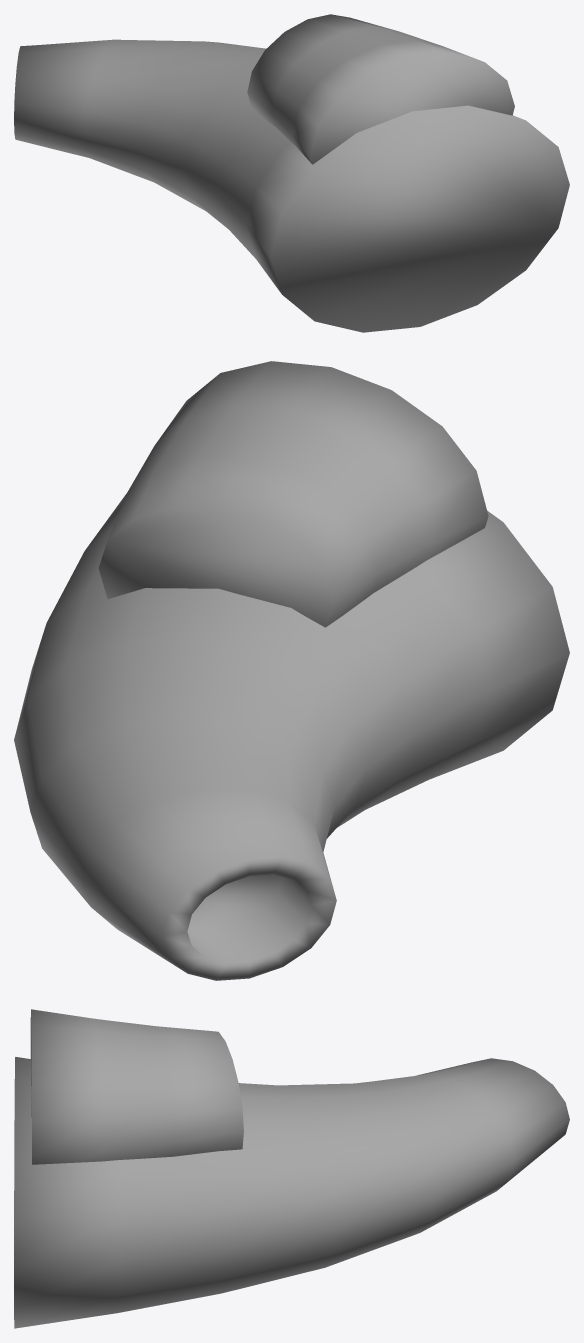
Rendered from SM_PropulsionBoomerang.fbx.
The picture shows the model from 3 angles, top to bottom: view 1: azimuth 30°, elevation 25°; view 2: azimuth 150°, elevation 25°; view 3: azimuth 270°, elevation 25°; orthographic projection. The views are drawn at different scales.
Parts seen in each view (by area): view 1: FrontBoomerang; view 2: FrontBoomerang; view 3: FrontBoomerang.
Part boxes in pixels (x1,y1,x2,y2): FrontBoomerang: (14,14,569,332); FrontBoomerang: (14,361,569,980); FrontBoomerang: (14,1009,569,1328).
Size of the model in its own units: 1.6 by 1.14 by 2.04.
1 material, 1 textured.
